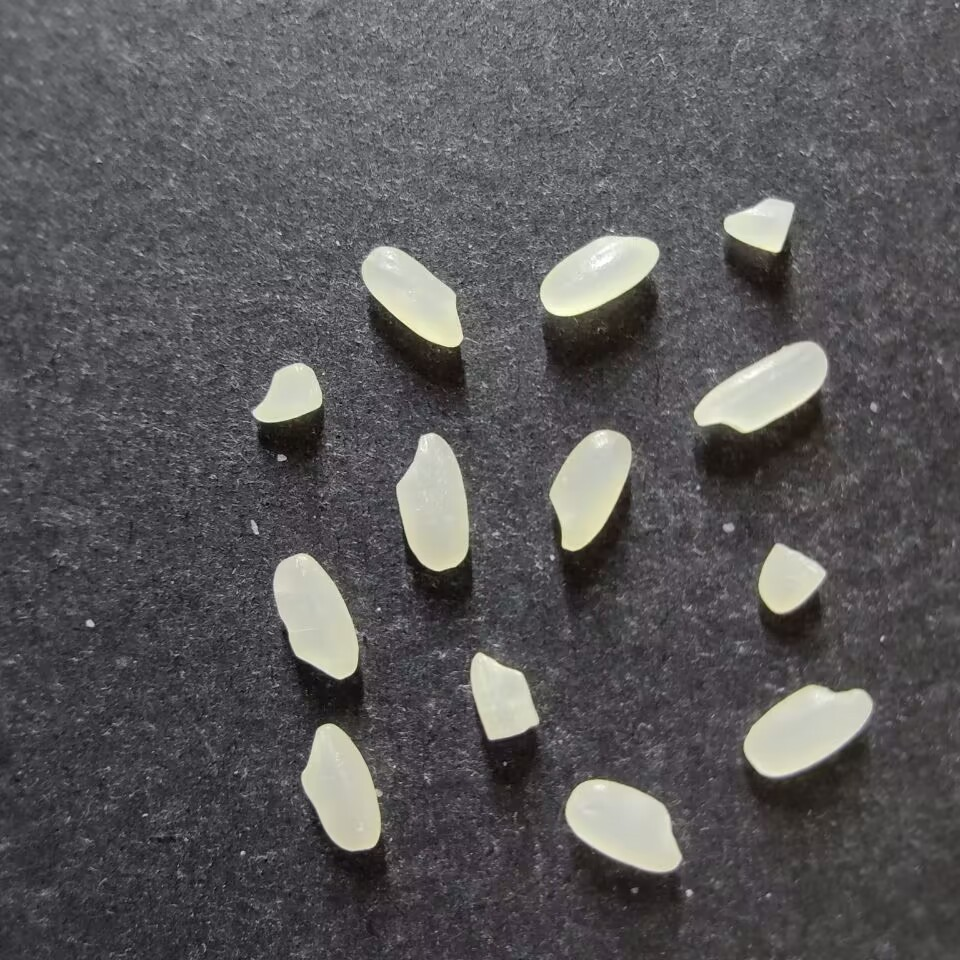broken: (757, 542, 827, 614), (251, 361, 322, 422), (722, 197, 795, 252)
rice: (693, 340, 828, 434), (742, 683, 874, 779), (564, 778, 682, 873), (272, 552, 359, 680), (360, 245, 464, 347), (299, 722, 380, 851), (548, 429, 632, 552), (395, 432, 469, 571), (538, 234, 660, 317)
